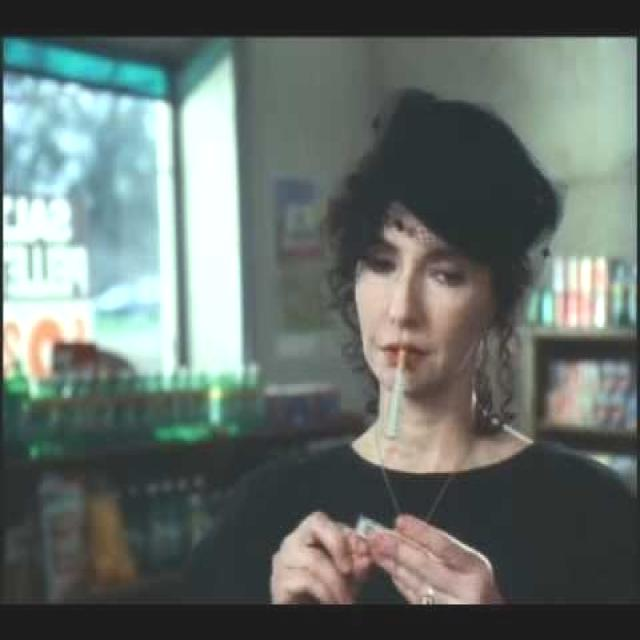Smooking: (386, 347, 414, 449)
